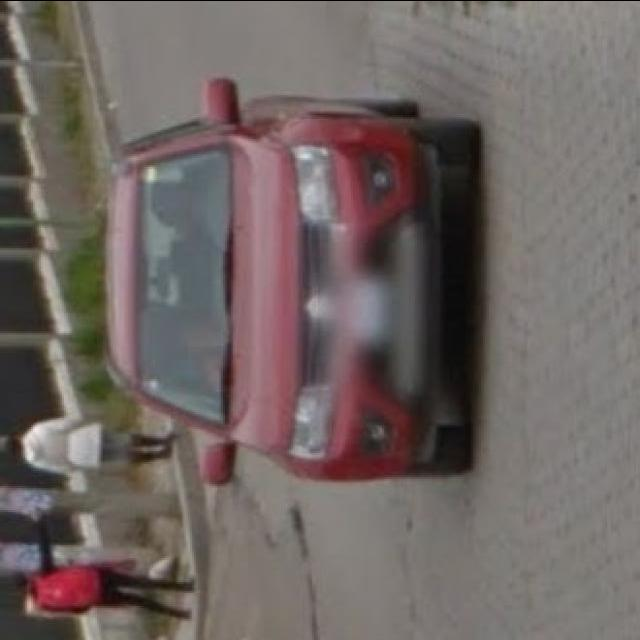car: (108, 72, 475, 490)
